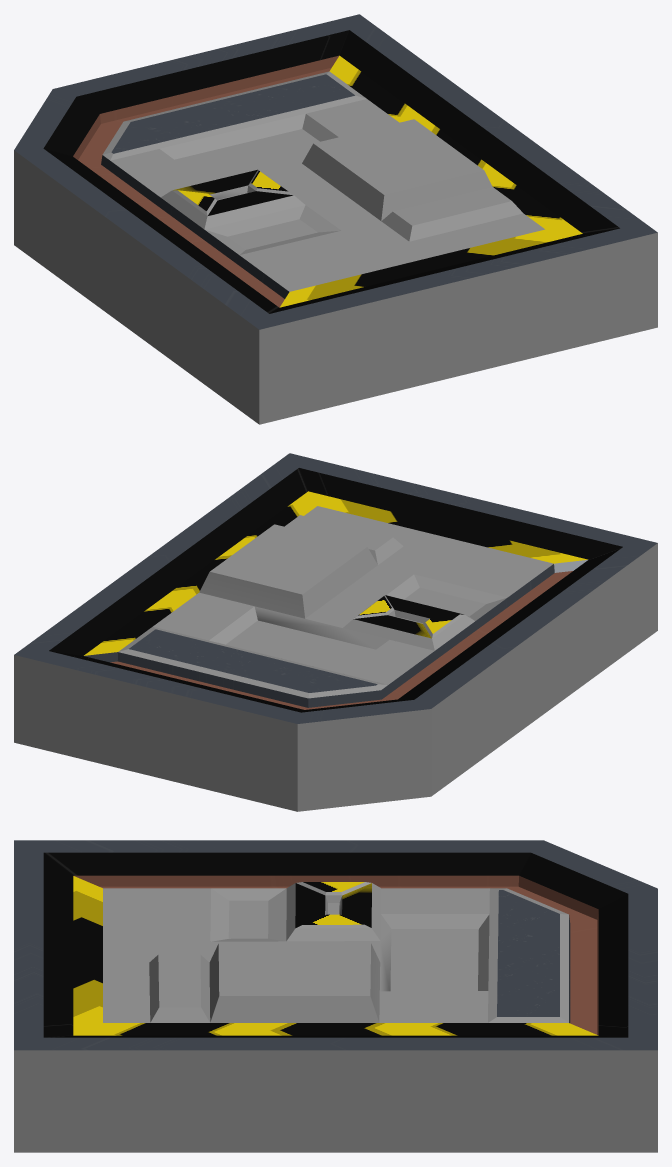
The model's file is Door_textured.FBX.
The picture shows the model from 3 angles, top to bottom: view 1: azimuth 30°, elevation 25°; view 2: azimuth 150°, elevation 25°; view 3: azimuth 270°, elevation 25°; orthographic projection. The views are drawn at different scales.
Parts seen in each view (by area): view 1: Box001; view 2: Box001; view 3: Box001.
Part boxes in pixels (<box>): Box001: <box>14,14,657,424</box>; Box001: <box>14,453,657,811</box>; Box001: <box>14,840,657,1152</box>.
Size of the model in its own units: 75.86 by 21.55 by 98.35.
18 materials, 6 textured.
